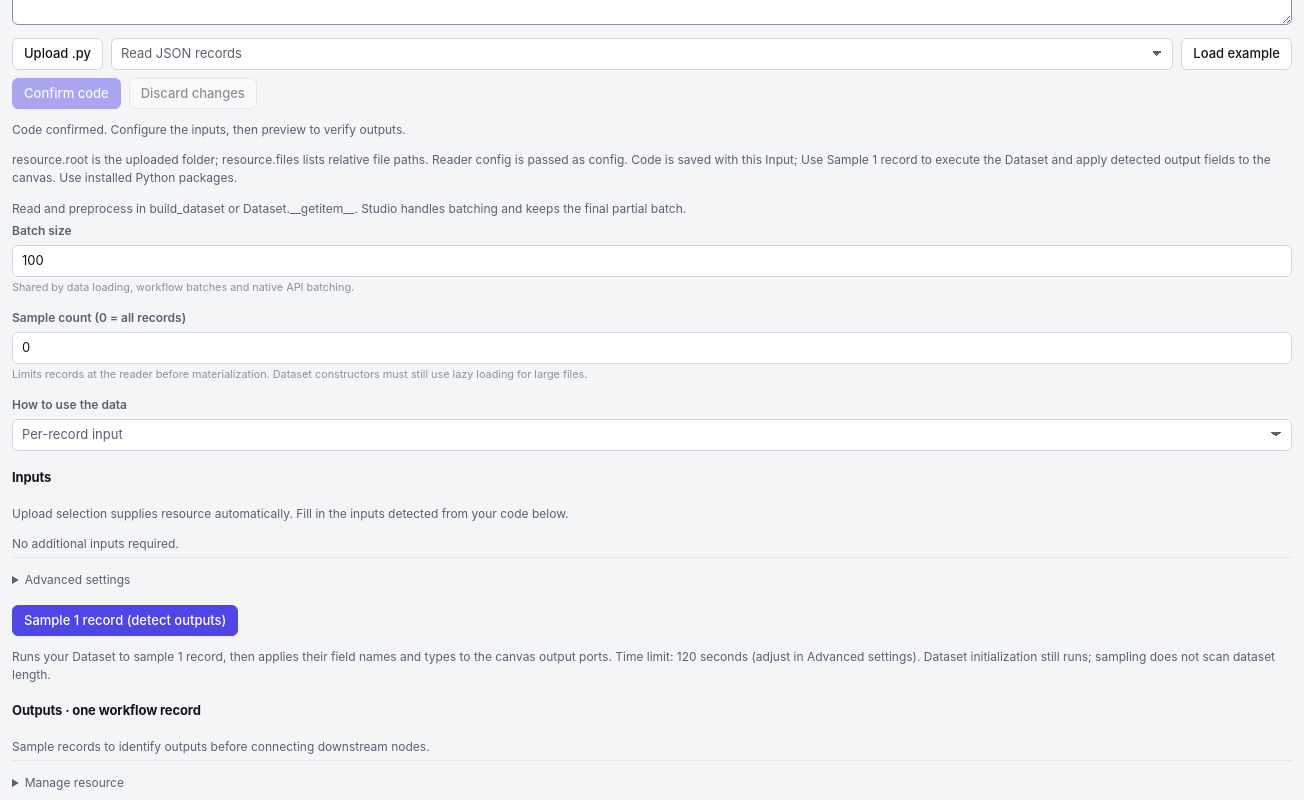
Test case: shows a persistent error when the server returns no fields
(page scrolled)
Click the button "Sample 1 record (detect outputs)". click: coordinates (125, 620)
box: [12, 605, 238, 636]
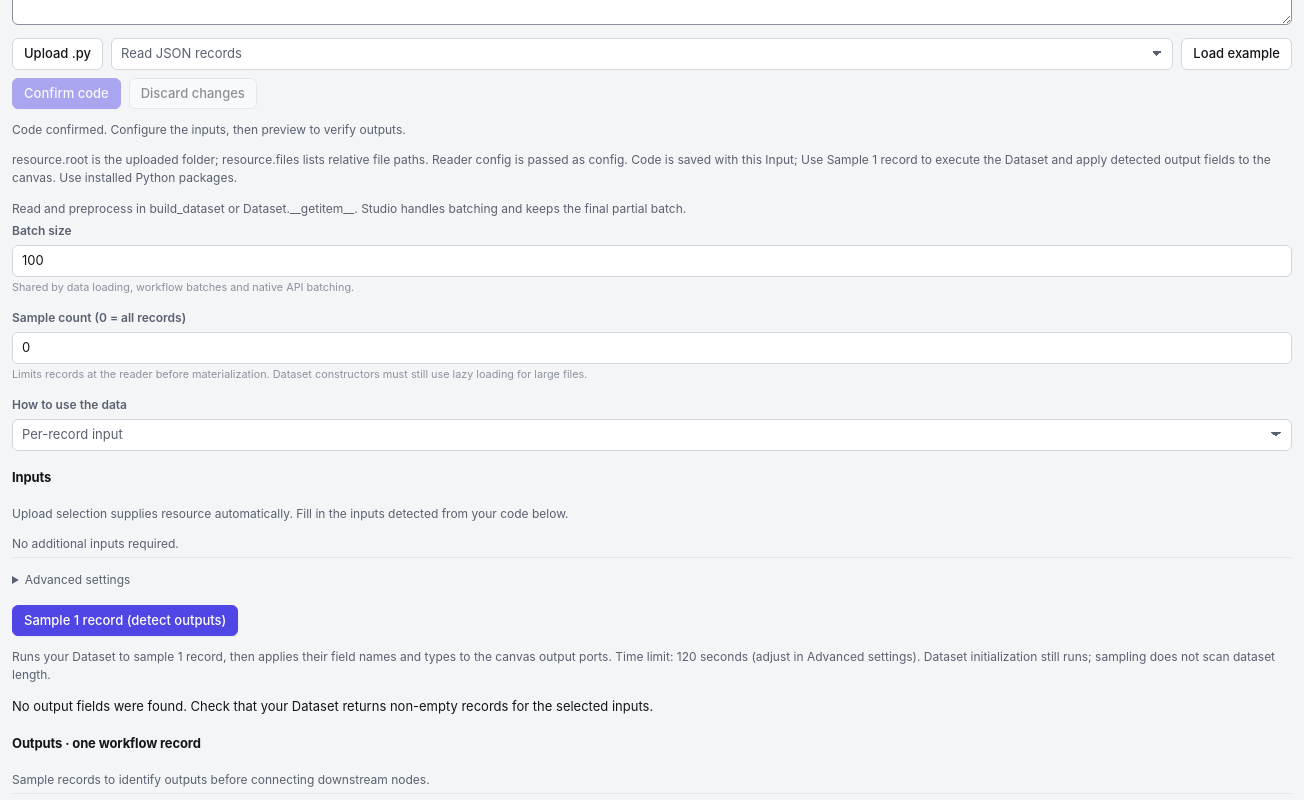
Expected: the 2nd message shows "No output fields were found", [12, 698, 653, 714]
